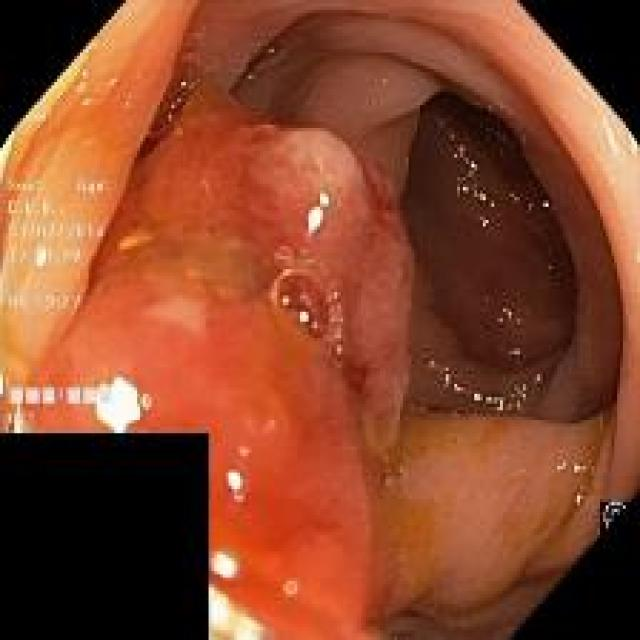Polyps: (30, 83, 414, 640)
